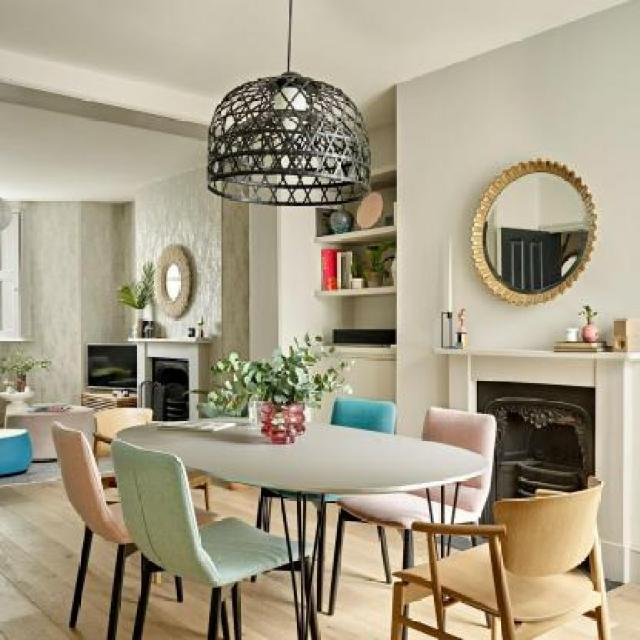Floor: (0, 480, 118, 640), (317, 504, 405, 640), (141, 572, 212, 639), (240, 570, 298, 639), (115, 550, 142, 639), (211, 477, 260, 526), (606, 582, 640, 640), (445, 602, 492, 639), (532, 615, 598, 639), (408, 595, 438, 629), (270, 498, 286, 537), (413, 530, 429, 566), (284, 499, 298, 540), (306, 501, 318, 544), (226, 590, 234, 639), (295, 572, 301, 630), (191, 490, 206, 510), (218, 618, 223, 639), (450, 548, 462, 555)
